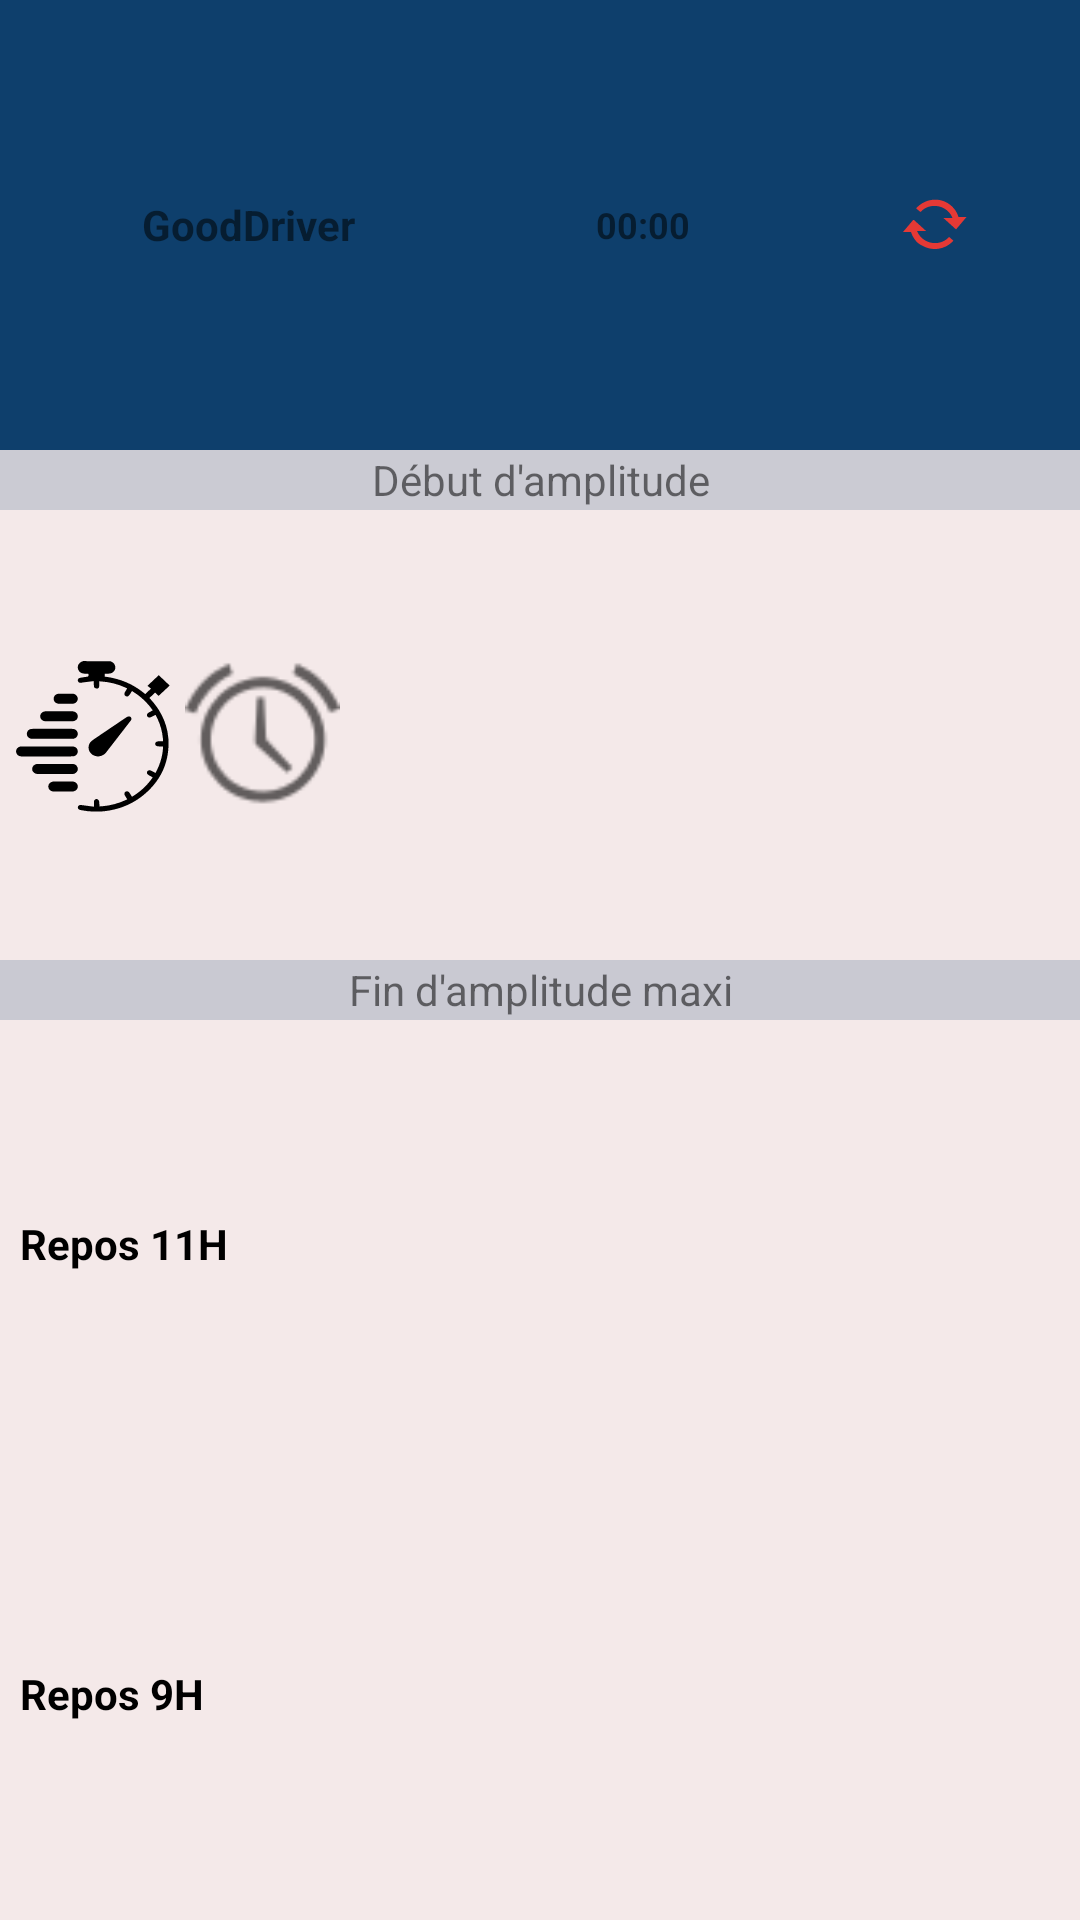

Named icons in this screenshot (1080 x 1920) and their bounding boxes, (x1,y1,x2,y2):
lock idle alarm: (185,663,340,804)
sync: (903,199,967,249)
